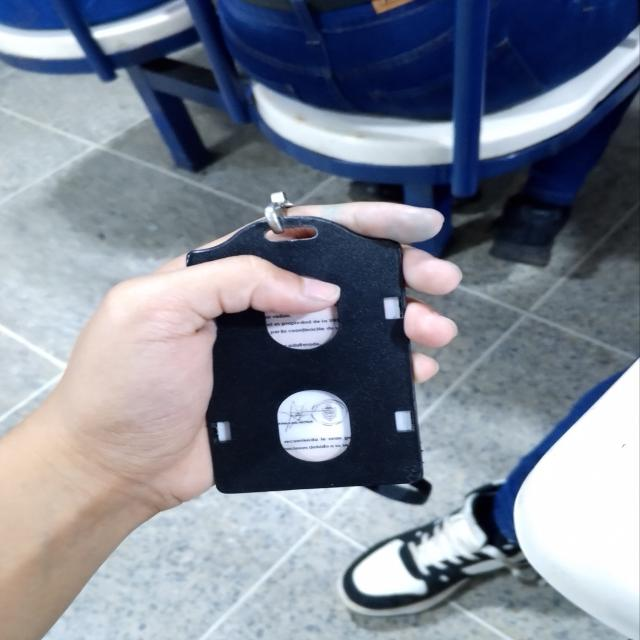carnet: (186, 217, 423, 494)
